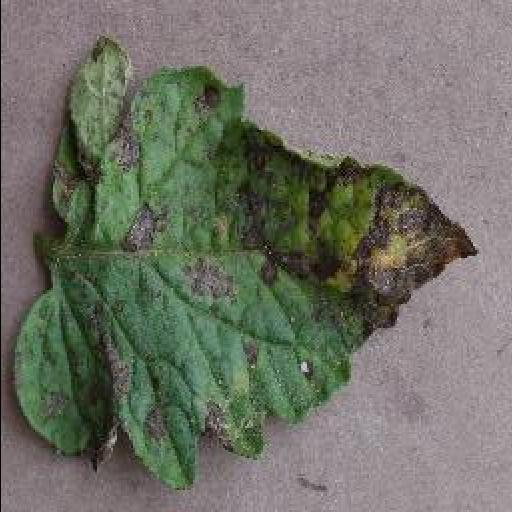disease_tomato: (12, 43, 482, 491)
